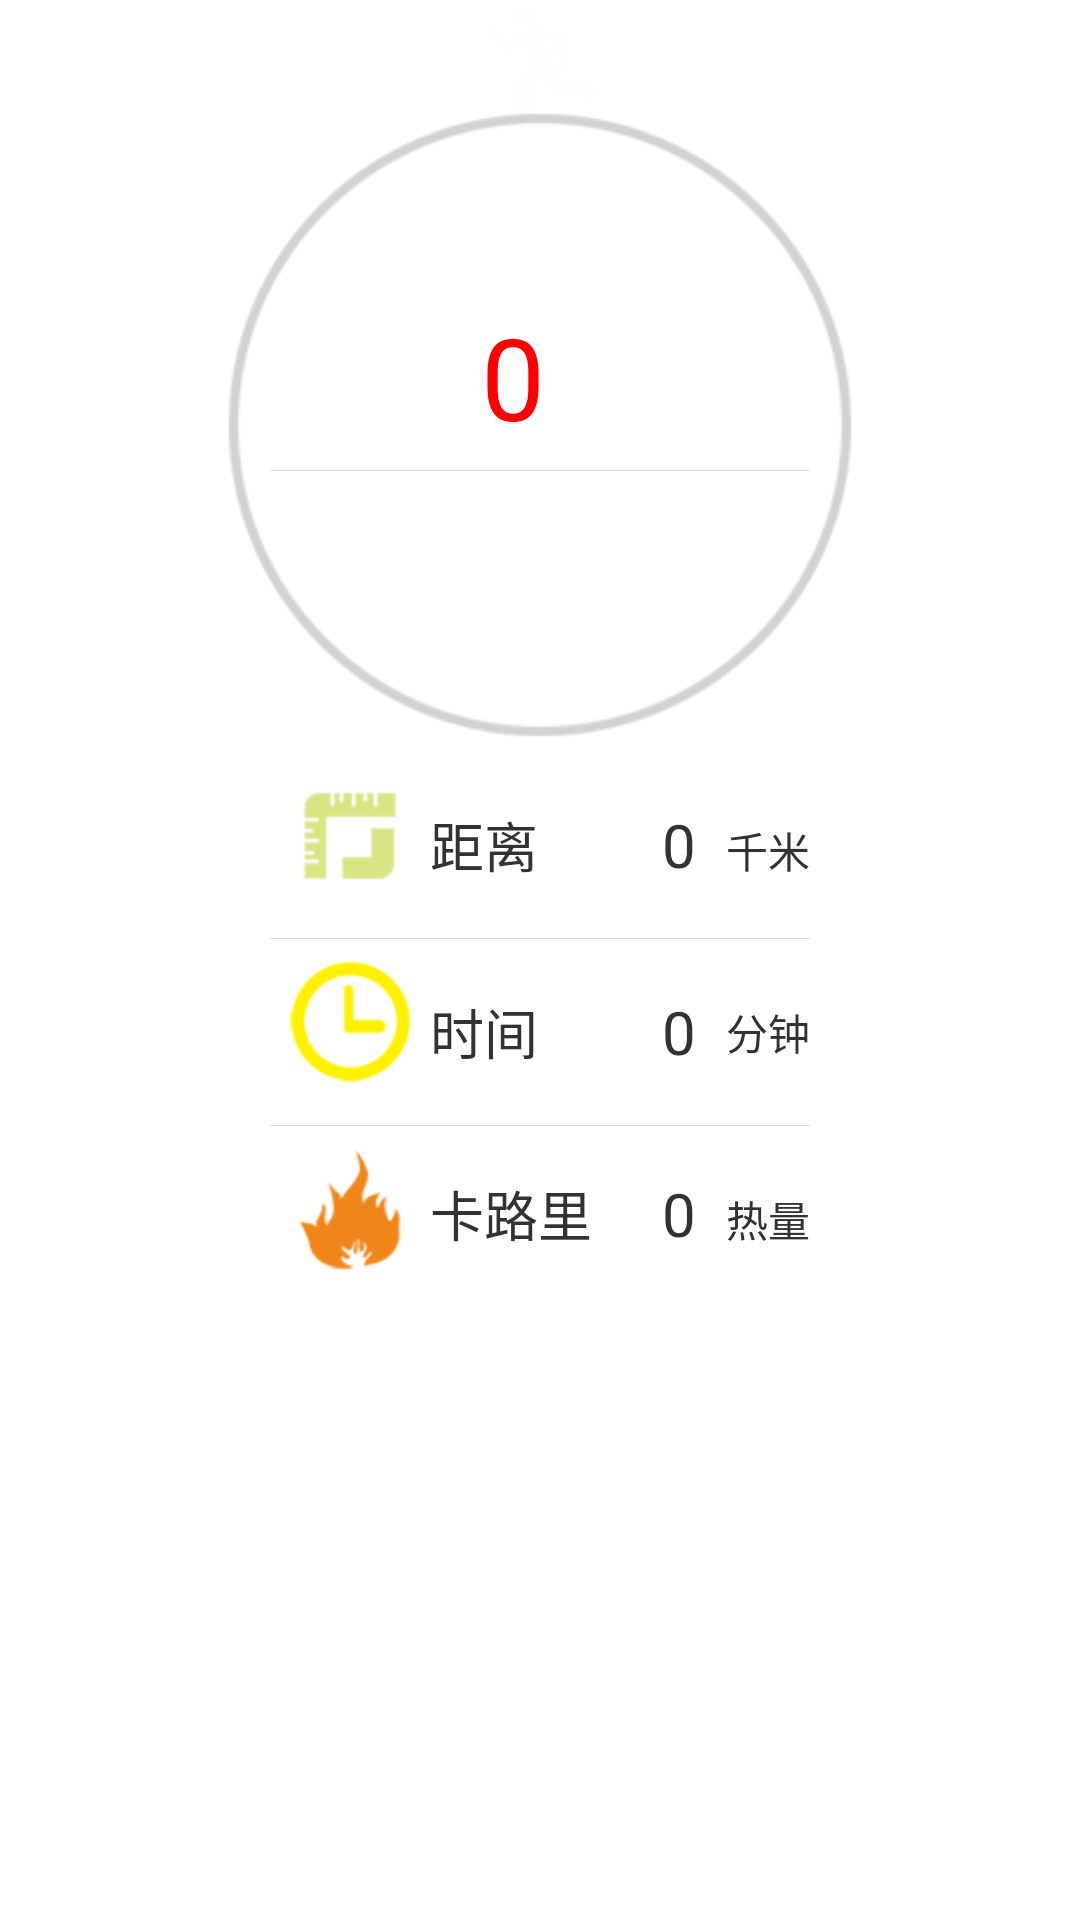

Point at icon controls on the screen. Image size 1080 x 1920, points as point (x, y).
calorie: point (350, 1210)
distance: point (350, 836)
time: point (350, 1022)
